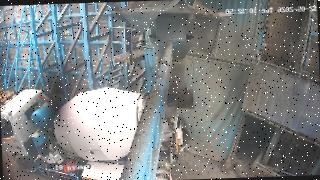cement_mixer_truck: (0, 82, 197, 180)
swing_chute: (149, 36, 194, 95)
